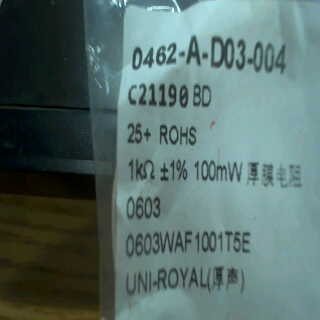1kR: (119, 154, 157, 184)
